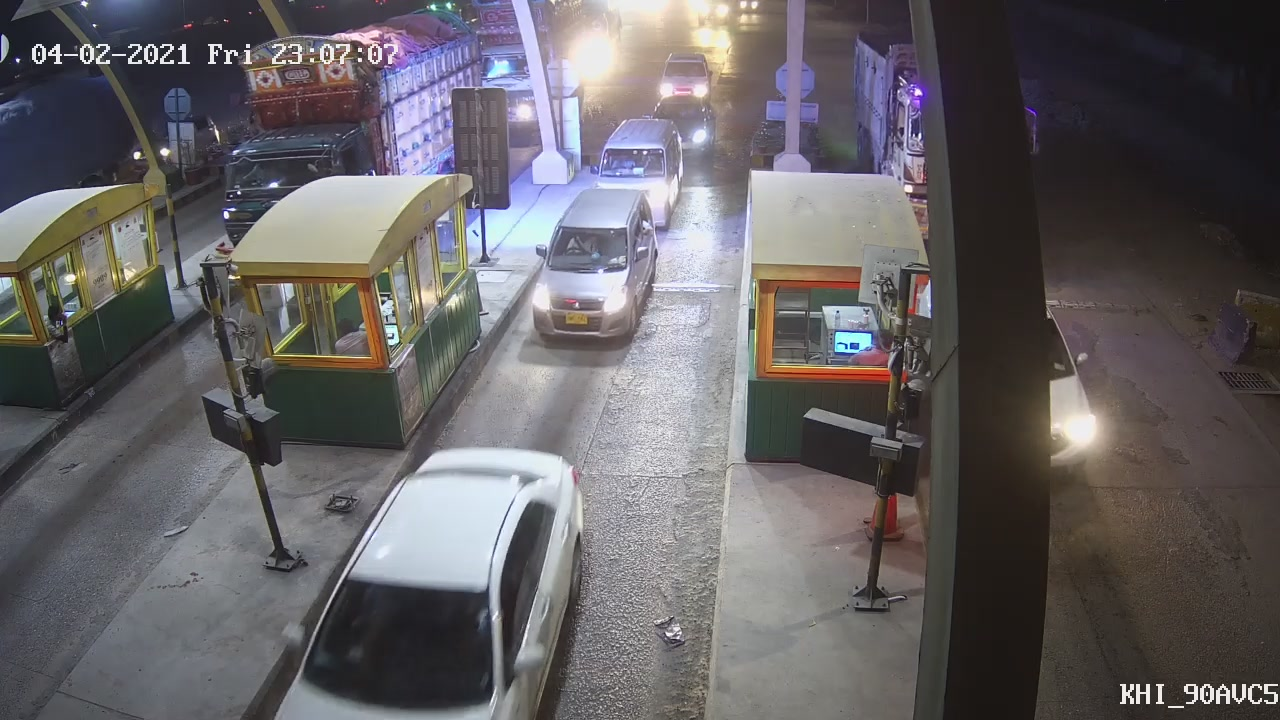F1: (527, 185, 665, 350)
